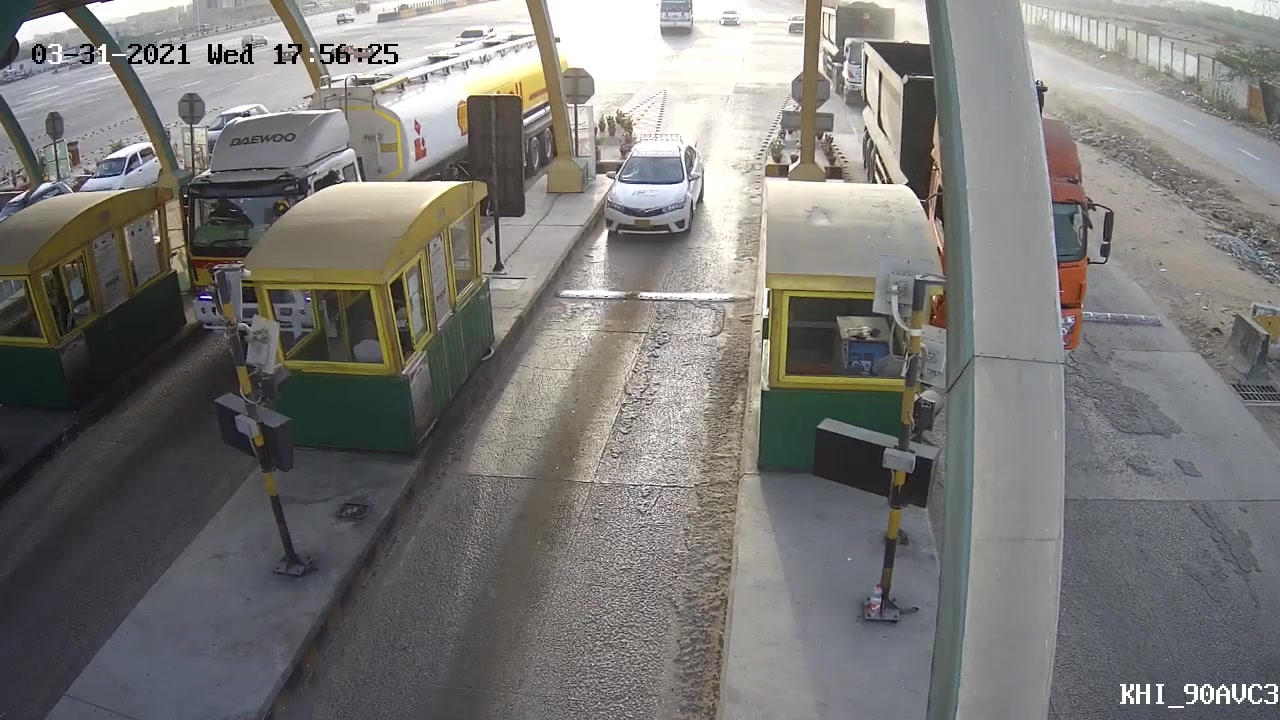F1: (598, 138, 707, 239)
